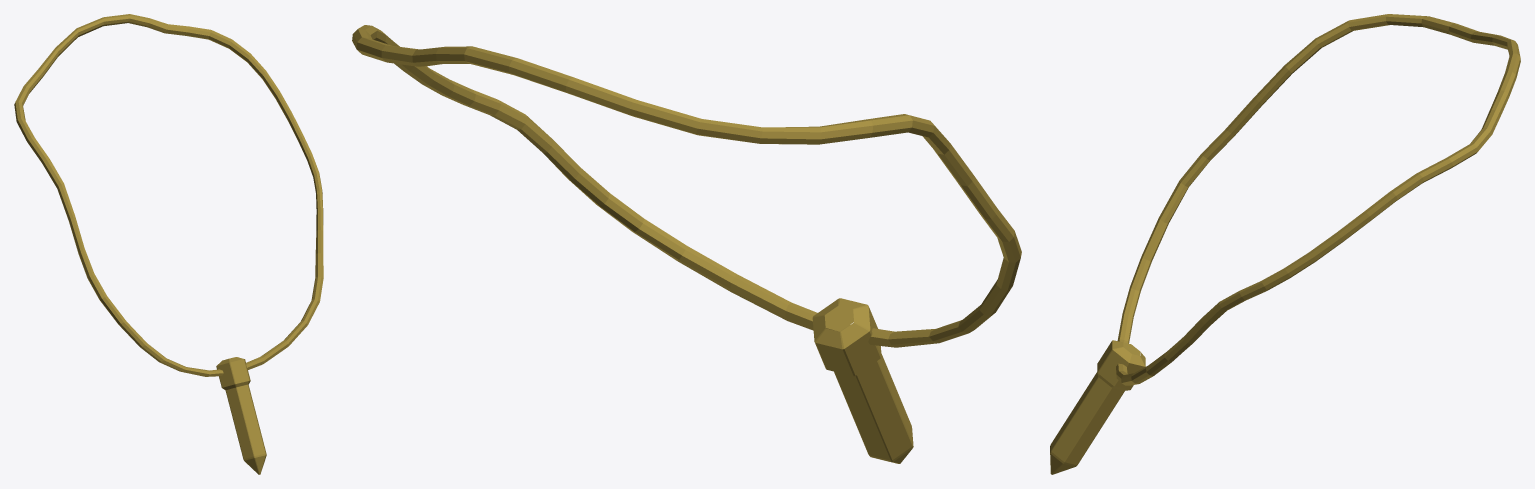
Rendered from collar3.glb.
3 renders of one model, left to right at view 1: azimuth 30°, elevation 25°; view 2: azimuth 150°, elevation 25°; view 3: azimuth 270°, elevation 25°, orthographic. The views are drawn at different scales.
Visible parts, largest first — view 1: Necklace3_Plane.003; view 2: Necklace3_Plane.003; view 3: Necklace3_Plane.003.
Boxes of the visible parts, x1=… form: Necklace3_Plane.003: x1=14, y1=14, x2=323, y2=474; Necklace3_Plane.003: x1=352, y1=25, x2=1021, y2=463; Necklace3_Plane.003: x1=1050, y1=14, x2=1520, y2=474.
Size of the model in its own units: 0.8537 by 1.01 by 0.9992.
